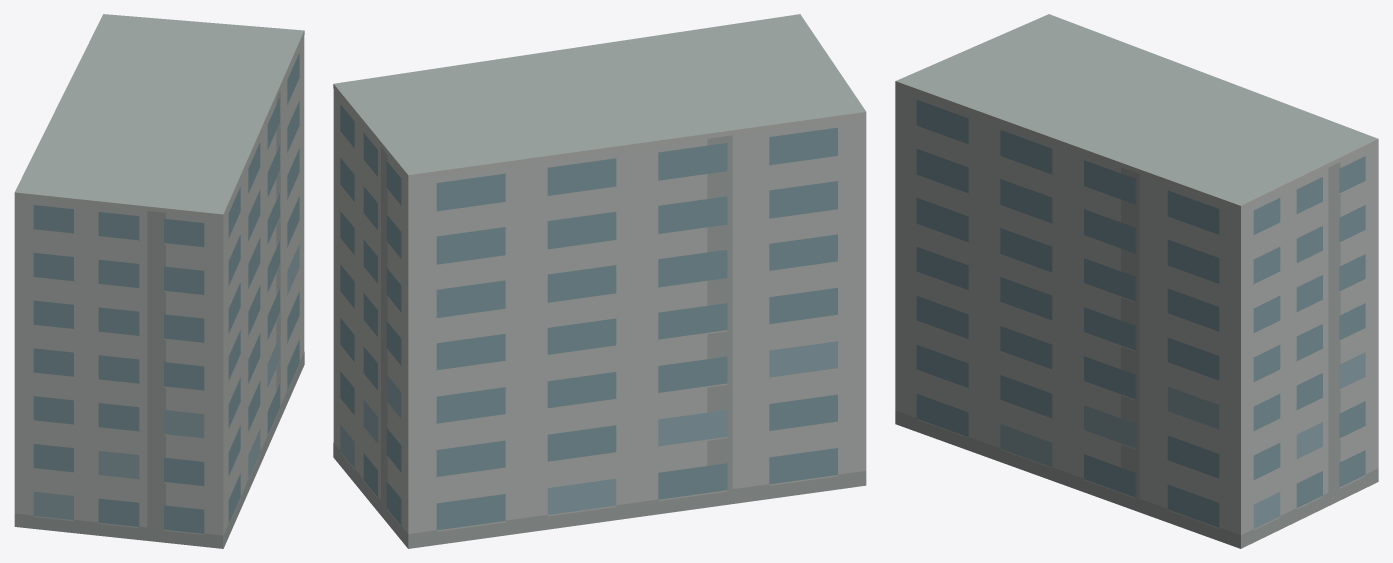
Rendered from survey-upis-32708901.glb.
The picture shows the model from 3 angles, left to right: view 1: azimuth 30°, elevation 25°; view 2: azimuth 150°, elevation 25°; view 3: azimuth 270°, elevation 25°; orthographic projection. The views are drawn at different scales.
Parts seen in each view (by area): view 1: survey-upis-32708901.tmp; view 2: survey-upis-32708901.tmp; view 3: survey-upis-32708901.tmp.
Part boxes in pixels (bbox=[...]): survey-upis-32708901.tmp: bbox=[14, 14, 304, 548]; survey-upis-32708901.tmp: bbox=[333, 14, 866, 548]; survey-upis-32708901.tmp: bbox=[895, 14, 1378, 548].
Bounding box in the file's own units: 22.32 × 18.6 × 23.74.
